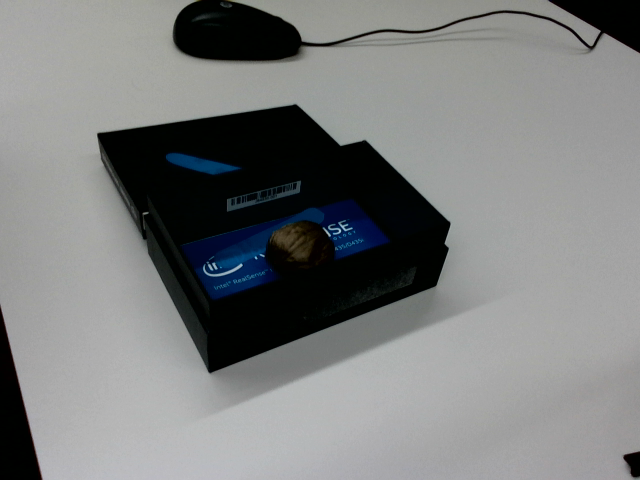walnut: (258, 213, 338, 281)
